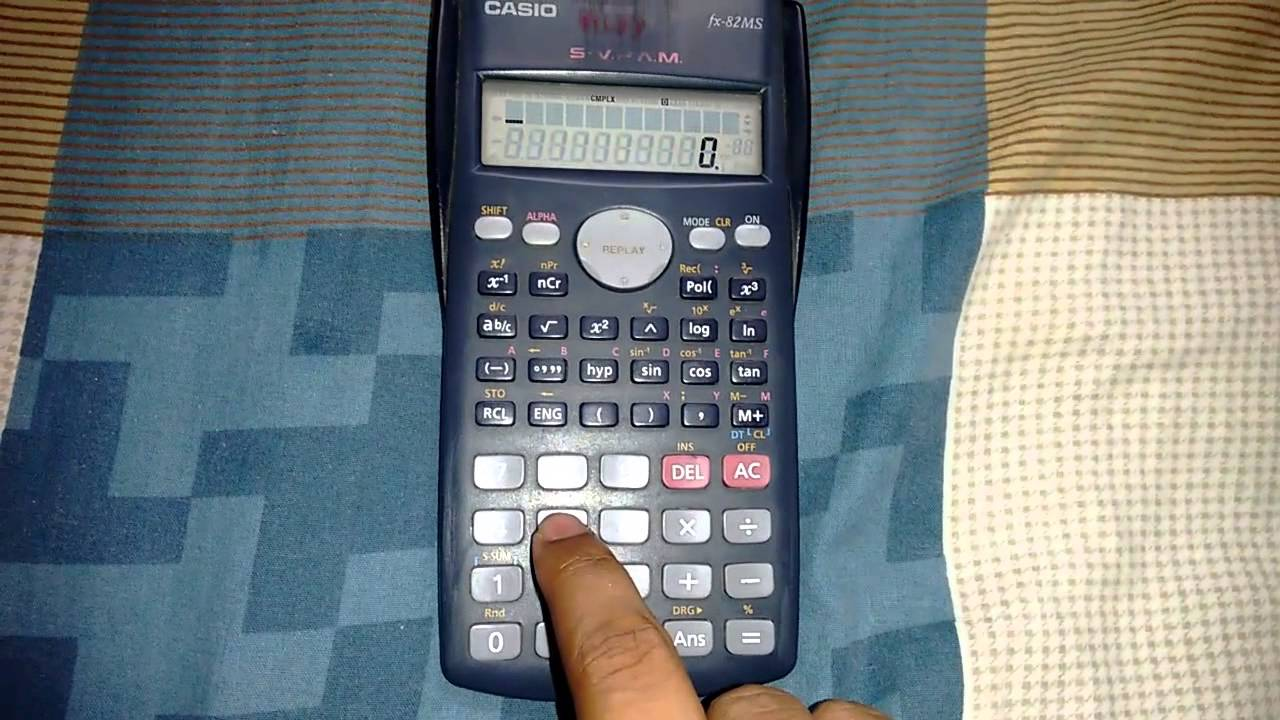Calculator: (418, 2, 811, 705)
